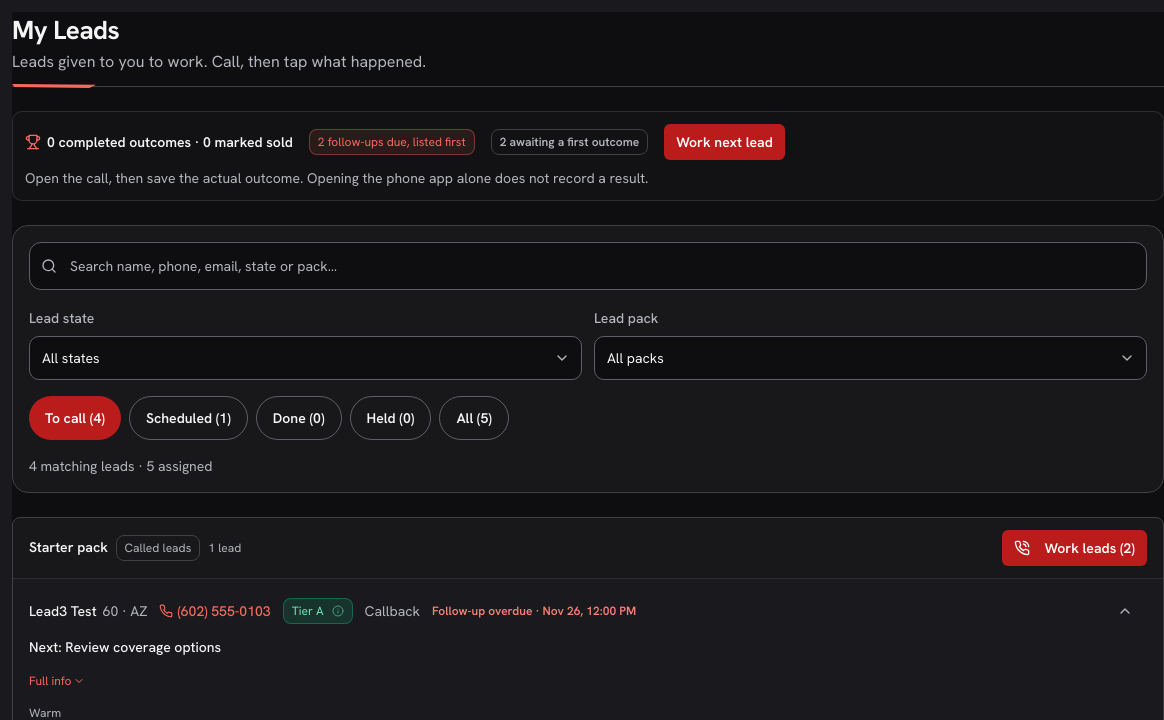
Test case: My Leads work list › separates future callbacks and orders due work across packs before the oldest untouched lead
This screenshot has width=1164, height=720.
Expected: the text with test id "callbacks-due" shows "2 follow-ups due", [309,129,475,155]
Expected: the text with test id "lead-next-action" shows "Review coverage options", [65,638,221,656]
Step 1. Click the button "Scheduled (1)" → (188, 418), box [129,396,248,440]
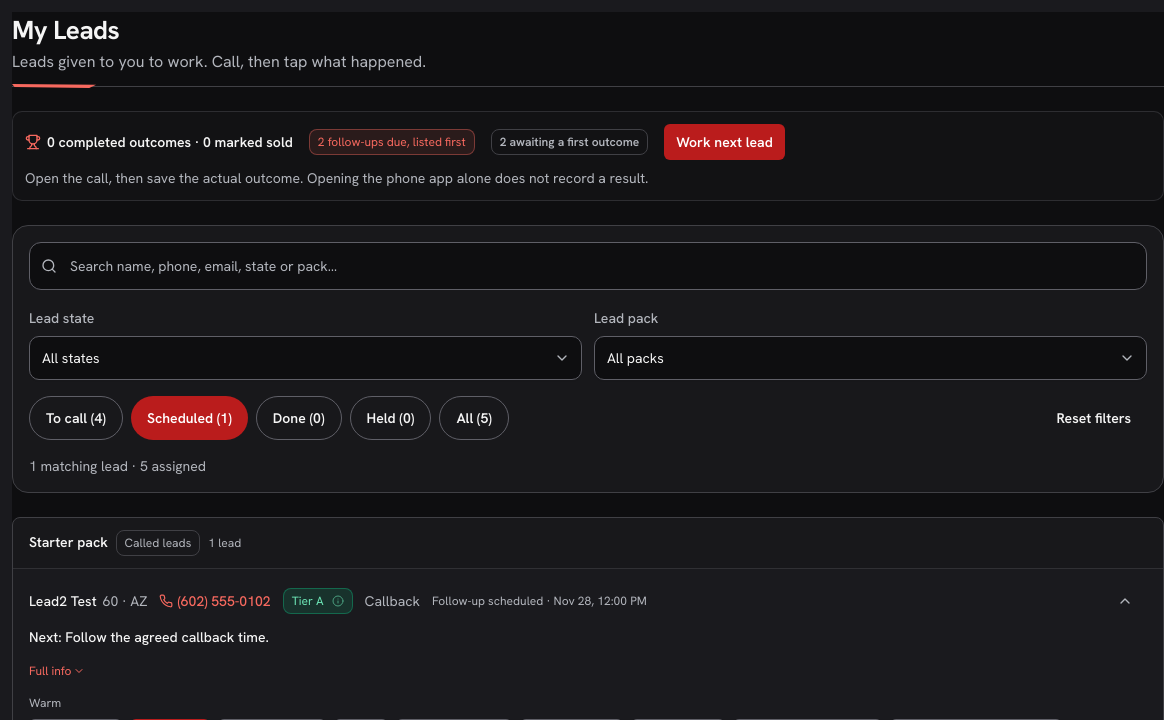
Expected: the text with test id "lead-response-state" shows "Follow-up scheduled", [432,593,543,609]
